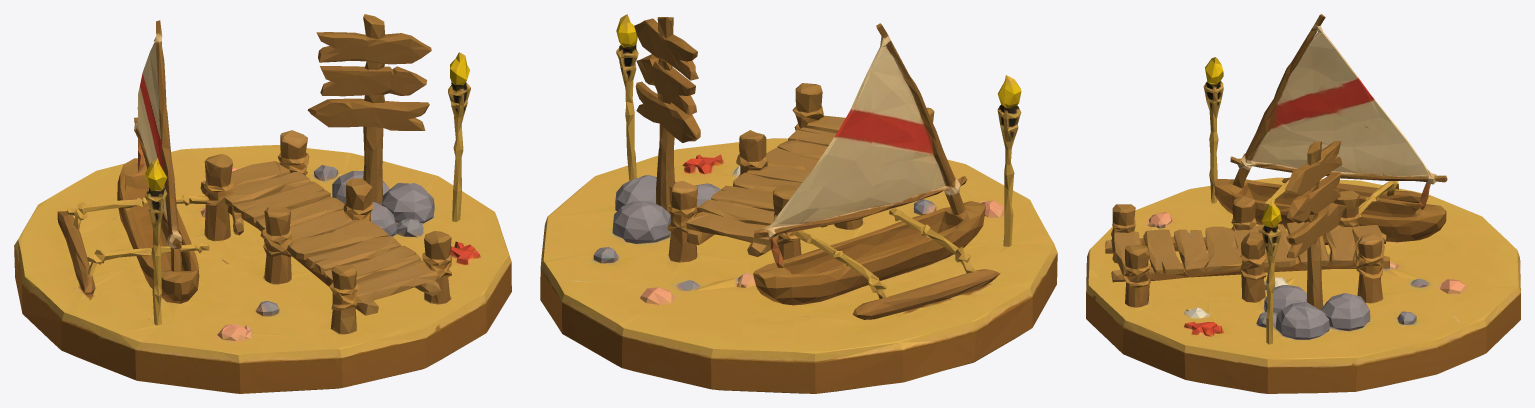
File: island-pier.glb
3 renders of one model, left to right at view 1: azimuth 30°, elevation 25°; view 2: azimuth 150°, elevation 25°; view 3: azimuth 270°, elevation 25°, orthographic. The views are drawn at different scales.
Parts seen in each view (by area): view 1: tripo_node_b8da8da6-71dc-4b6a-9072-22319aebbafb; view 2: tripo_node_b8da8da6-71dc-4b6a-9072-22319aebbafb; view 3: tripo_node_b8da8da6-71dc-4b6a-9072-22319aebbafb.
Boxes of the visible parts, bbox=[...] form: tripo_node_b8da8da6-71dc-4b6a-9072-22319aebbafb: bbox=[14, 14, 511, 393]; tripo_node_b8da8da6-71dc-4b6a-9072-22319aebbafb: bbox=[540, 14, 1057, 393]; tripo_node_b8da8da6-71dc-4b6a-9072-22319aebbafb: bbox=[1086, 14, 1520, 393].
Size of the model in its own units: 0.9997 by 0.6272 by 0.9963.
Materials: 1 (1 with a texture image).
